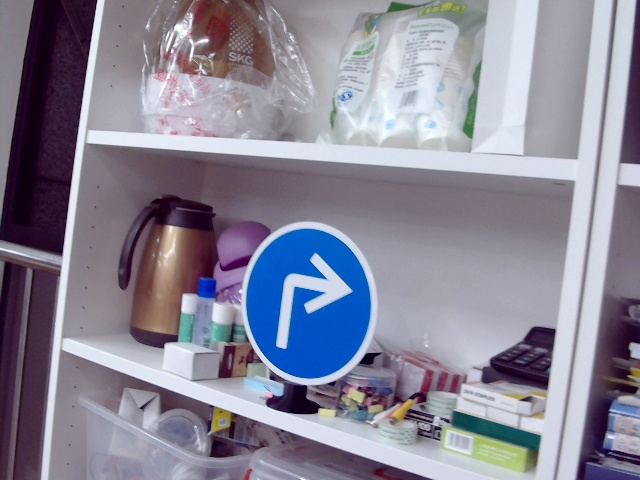turn_right: (271, 247, 351, 354)
